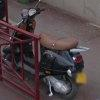Motorcycle: (12, 8, 88, 96)
